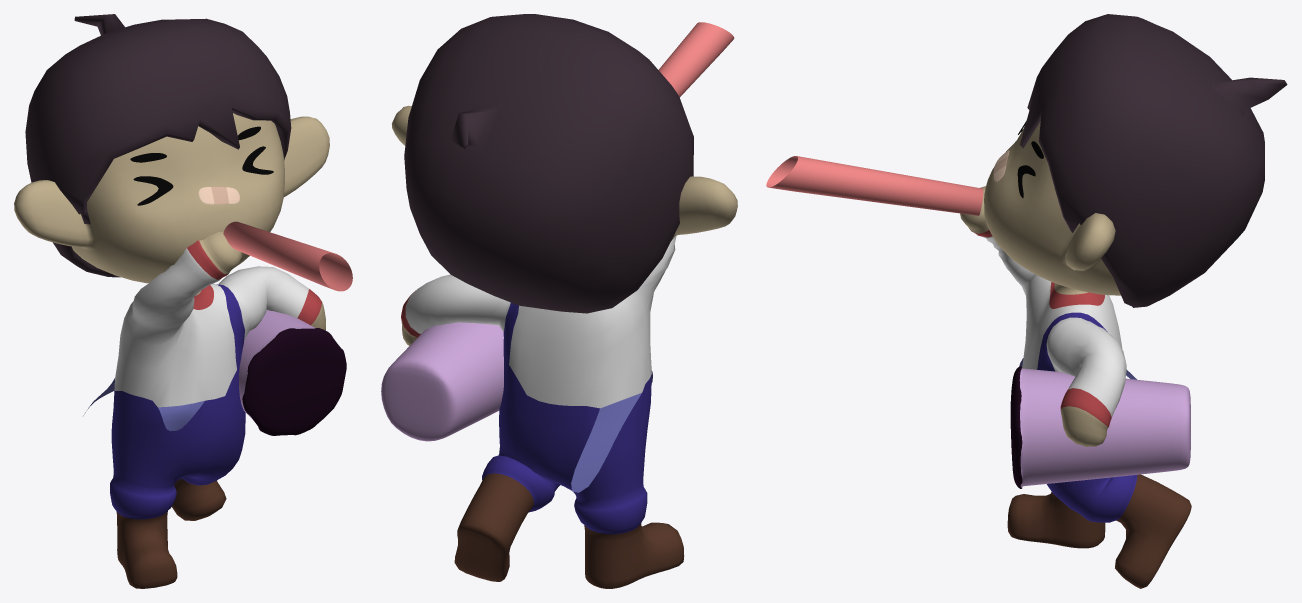
Rendered from lil bro unity 2 test.fbx.
The picture shows the model from 3 angles, left to right: view 1: azimuth 30°, elevation 25°; view 2: azimuth 150°, elevation 25°; view 3: azimuth 270°, elevation 25°; orthographic projection. The views are drawn at different scales.
Visible parts, largest first — view 1: Plane.003, Cube.001, Cylinder; view 2: Cube.001, Plane.003, Cylinder; view 3: Plane.003, Cube.001, Cylinder.
Boxes of the visible parts, x1,y1,x2,y2 form: Plane.003: (14,113,346,588); Cube.001: (25,14,291,277); Cylinder: (223,221,352,291); Cube.001: (404,14,693,313); Plane.003: (381,105,737,588); Cylinder: (658,22,734,97); Plane.003: (960,121,1191,588); Cube.001: (1020,14,1287,307); Cylinder: (766,156,983,215).
Size of the model in its own units: 84.11 by 132 by 118.
